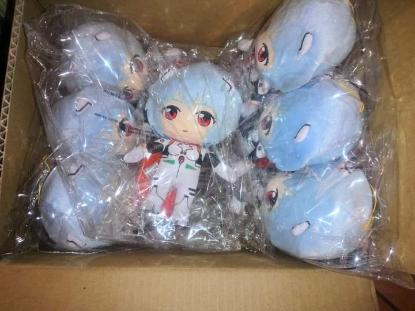rei-plush: (137, 61, 246, 232), (250, 165, 383, 266), (230, 0, 373, 86), (45, 11, 159, 103), (257, 79, 368, 172), (35, 152, 135, 251), (55, 87, 150, 166)
